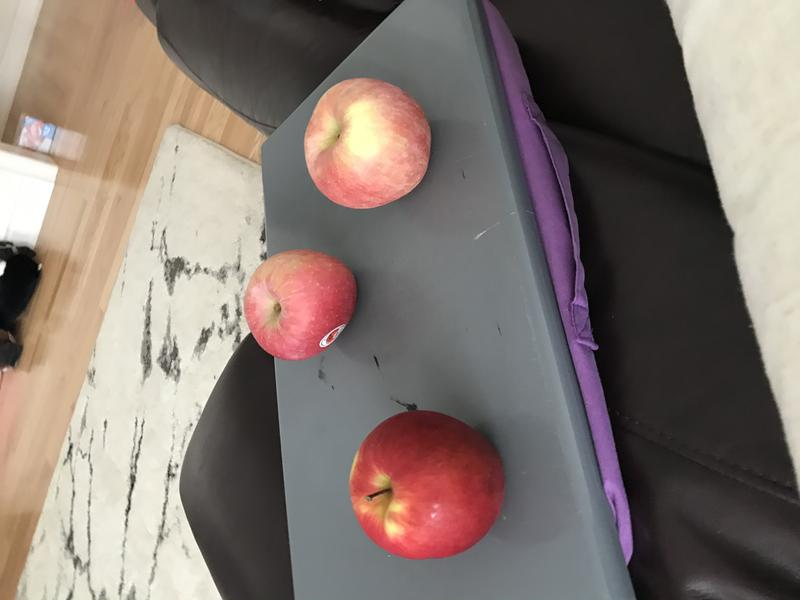red_apple: (342, 405, 510, 562), (289, 69, 439, 213), (232, 244, 363, 361)
